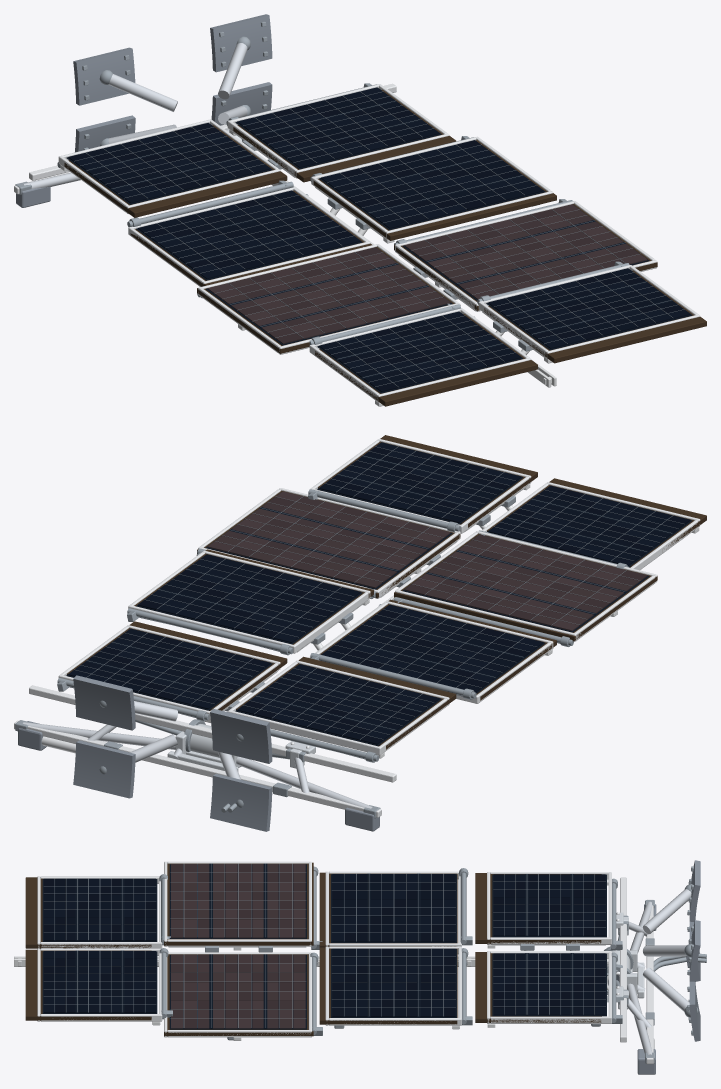
Rendered from solar-panel-standard.glb.
3 renders of one model, top to bottom at view 1: azimuth 30°, elevation 25°; view 2: azimuth 150°, elevation 25°; view 3: azimuth 270°, elevation 25°, orthographic. The views are drawn at different scales.
Parts seen in each view (by area): view 1: panel_cells:2, panel_cells:6, panel_cells:5, panel_cells:1, panel_cells:0, panel_cells:3, panel_cells:7, panel_cells:4, panel:0, panel:3, panel:7, hull_saddle:0 (+36 smaller); view 2: panel_cells:2, panel_cells:6, panel_cells:5, panel_cells:1, panel_cells:7, panel_cells:0, panel_cells:3, panel_cells:4, solar_mount_rails, hull_saddle:1, hull_saddle:3, hull_saddle:0 (+41 smaller); view 3: panel_cells:2, panel_cells:6, panel_cells:5, panel_cells:1, panel_cells:3, panel_cells:0, panel_cells:4, panel_cells:7, panel_frame:4, panel:7, panel_frame:2, panel_frame:5 (+50 smaller).
Boxes of the visible parts, x1=… form: panel_cells:2: x1=207, y1=247, x2=450, y2=343; panel_cells:6: x1=404, y1=204, x2=647, y2=299; panel_cells:5: x1=321, y1=140, x2=543, y2=228; panel_cells:1: x1=138, y1=190, x2=360, y2=279; panel_cells:0: x1=68, y1=123, x2=270, y2=203; panel_cells:3: x1=319, y1=311, x2=521, y2=392; panel_cells:7: x1=488, y1=268, x2=690, y2=348; panel_cells:4: x1=237, y1=87, x2=439, y2=167; panel:0: x1=64, y1=125, x2=287, y2=217; panel:3: x1=315, y1=314, x2=537, y2=406; panel:7: x1=484, y1=270, x2=706, y2=363; hull_saddle:0: x1=210, y1=14, x2=272, y2=72; panel_cells:2: x1=404, y1=534, x2=647, y2=631; panel_cells:6: x1=207, y1=491, x2=450, y2=588; panel_cells:5: x1=138, y1=554, x2=360, y2=642; panel_cells:1: x1=321, y1=604, x2=543, y2=692; panel_cells:7: x1=319, y1=442, x2=521, y2=522; panel_cells:0: x1=237, y1=664, x2=439, y2=744; panel_cells:3: x1=488, y1=485, x2=690, y2=565; panel_cells:4: x1=68, y1=628, x2=270, y2=709; solar_mount_rails: x1=14, y1=685, x2=396, y2=817; hull_saddle:1: x1=73, y1=740, x2=135, y2=798; hull_saddle:3: x1=210, y1=773, x2=272, y2=831; hull_saddle:0: x1=73, y1=675, x2=135, y2=730; panel_cells:2: x1=171, y1=864, x2=305, y2=938; panel_cells:6: x1=171, y1=954, x2=305, y2=1028; panel_cells:5: x1=332, y1=948, x2=455, y2=1016; panel_cells:1: x1=332, y1=874, x2=455, y2=941; panel_cells:3: x1=44, y1=878, x2=155, y2=940; panel_cells:0: x1=493, y1=874, x2=605, y2=936; panel_cells:4: x1=493, y1=953, x2=605, y2=1015; panel_cells:7: x1=44, y1=951, x2=155, y2=1012; panel_frame:4: x1=487, y1=951, x2=611, y2=1023; panel:7: x1=25, y1=949, x2=151, y2=1020; panel_frame:2: x1=164, y1=861, x2=311, y2=946; panel_frame:5: x1=325, y1=946, x2=461, y2=1025.
Size of the model in its own units: 4.69 by 1.29 by 8.32.
